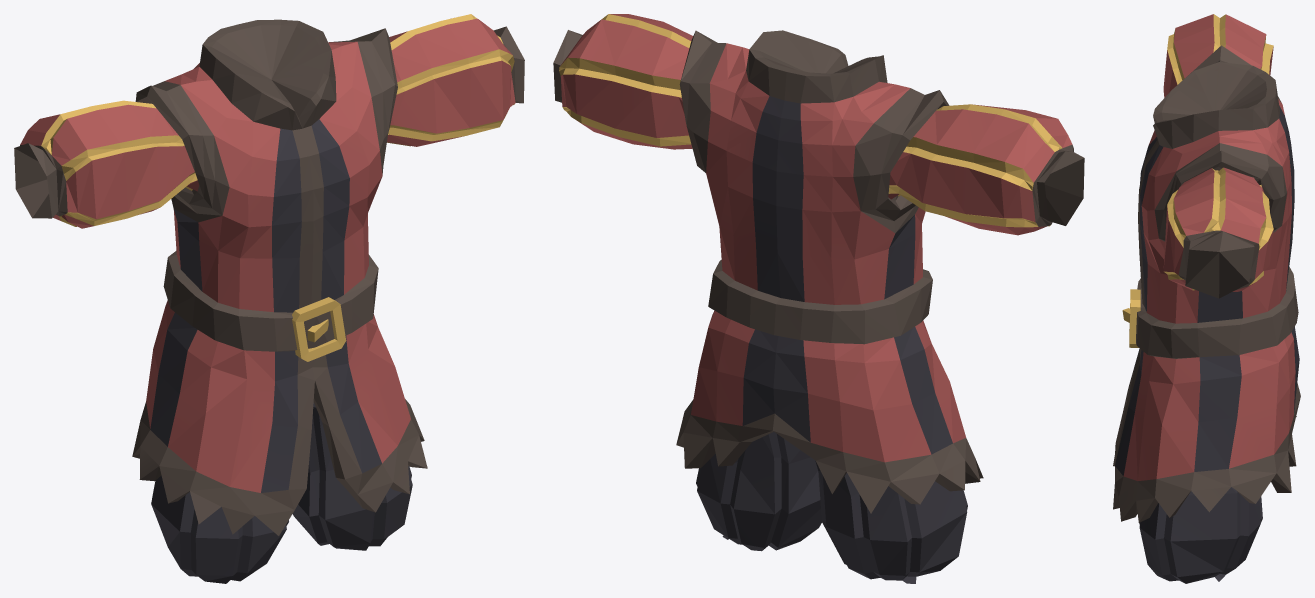
The model's file is armorJesterDisplay.fbx.
3 renders of one model, left to right at view 1: azimuth 30°, elevation 25°; view 2: azimuth 150°, elevation 25°; view 3: azimuth 270°, elevation 25°, orthographic. The views are drawn at different scales.
Visible parts, largest first — view 1: armorJesterDisplay; view 2: armorJesterDisplay; view 3: armorJesterDisplay.
Boxes of the visible parts, x1,y1,x2,y2 form: armorJesterDisplay: (14,14,524,583); armorJesterDisplay: (553,14,1084,583); armorJesterDisplay: (1113,14,1300,583).
Bounding box in the file's own units: 1.79 × 1.78 × 0.6625.
Materials: 1 (1 with a texture image).
